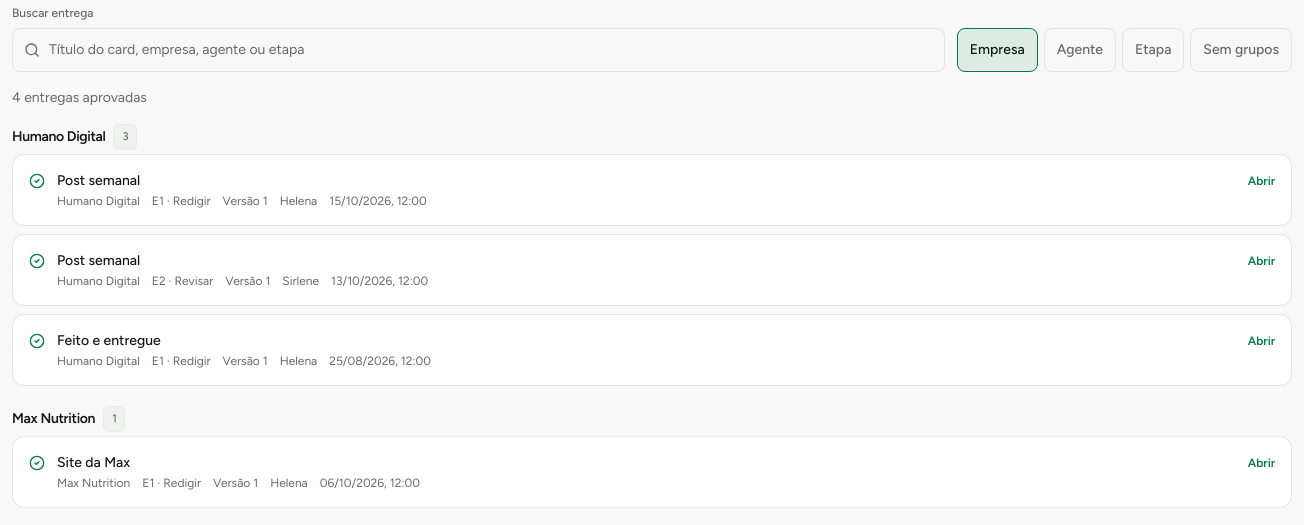
busca ignorando acento e maiúsculas e diz quando nada combina
The width and height of the screenshot is (1304, 525).
Type "SITE DA MAX" into the search field labelled "Buscar entrega".
click(478, 50); type("SITE DA MAX")  # box [12, 28, 945, 72]
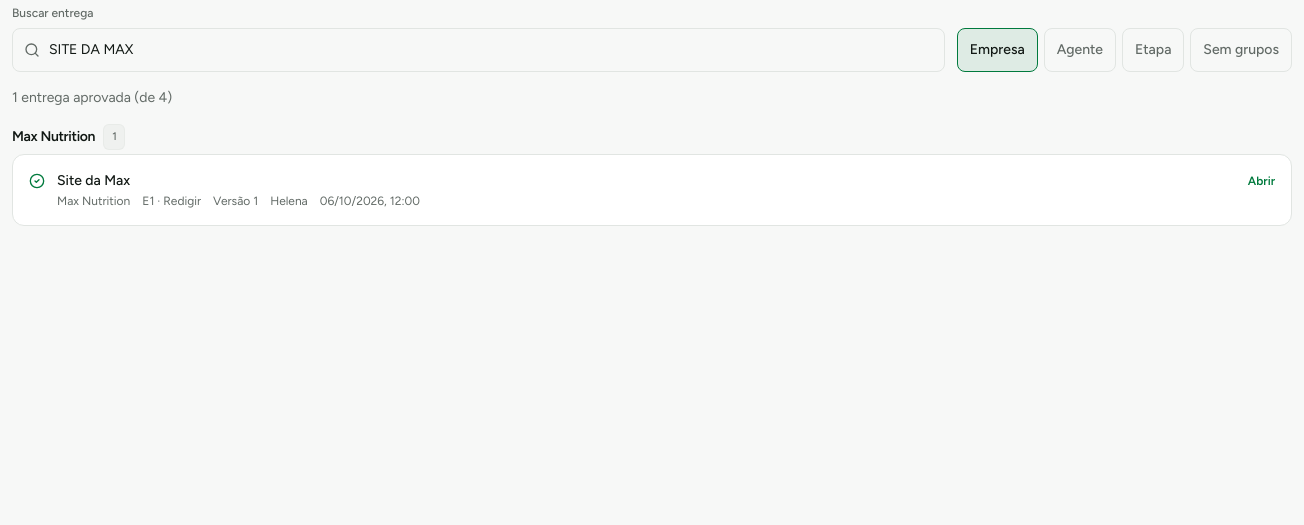
Expected: the text "1 entrega aprovada (de 4)" is shown, [12, 89, 172, 106]
Replace the text in the search field labelled "Buscar entrega" with "zzz" at (478, 50), box [12, 28, 945, 72]
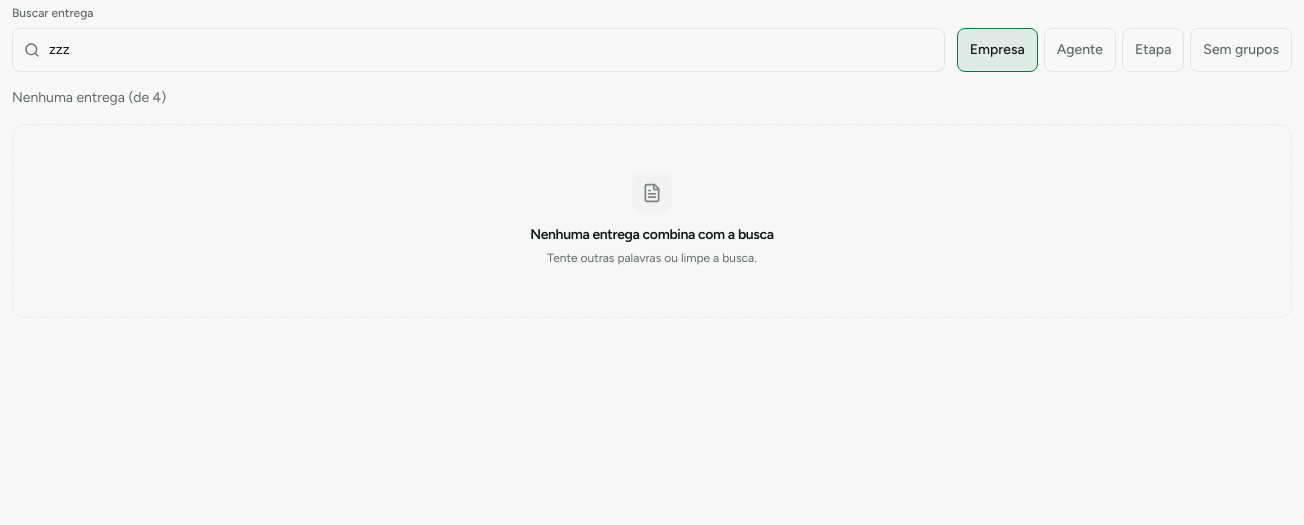
Expected: the heading "Nenhuma entrega combina com a busca" is shown, [530, 225, 774, 245]
